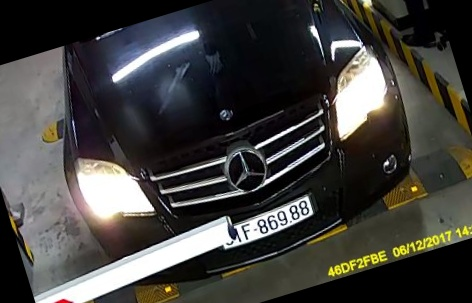plate: (213, 184, 317, 250)
